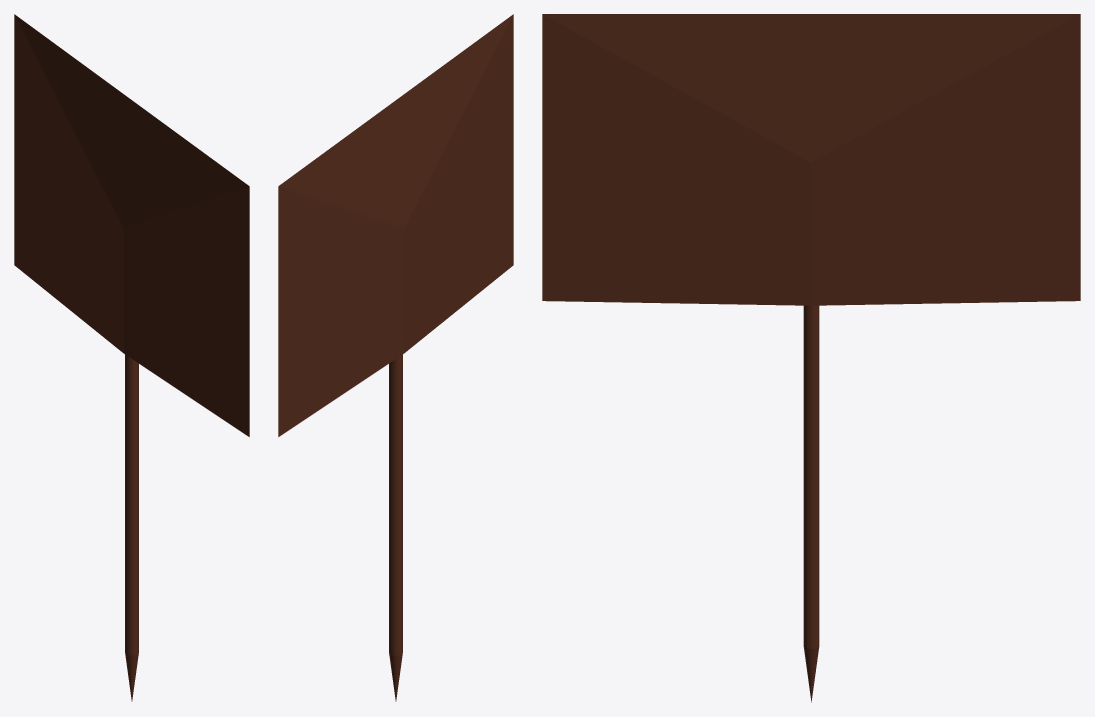
File: sign 1.fbx
3 renders of one model, left to right at view 1: azimuth 30°, elevation 25°; view 2: azimuth 150°, elevation 25°; view 3: azimuth 270°, elevation 25°, orthographic. The views are drawn at different scales.
Visible parts, largest first — view 1: Sign, Sign Pole; view 2: Sign, Sign Pole; view 3: Sign, Sign Pole.
Part boxes in pixels (box(x1,y1,x2,y2)): Sign: box(14, 14, 249, 436); Sign Pole: box(125, 354, 138, 655); Sign: box(278, 14, 513, 436); Sign Pole: box(389, 354, 402, 655); Sign: box(542, 14, 1080, 305); Sign Pole: box(803, 305, 819, 648).
Size of the model in its own units: 14 by 480 by 340.
